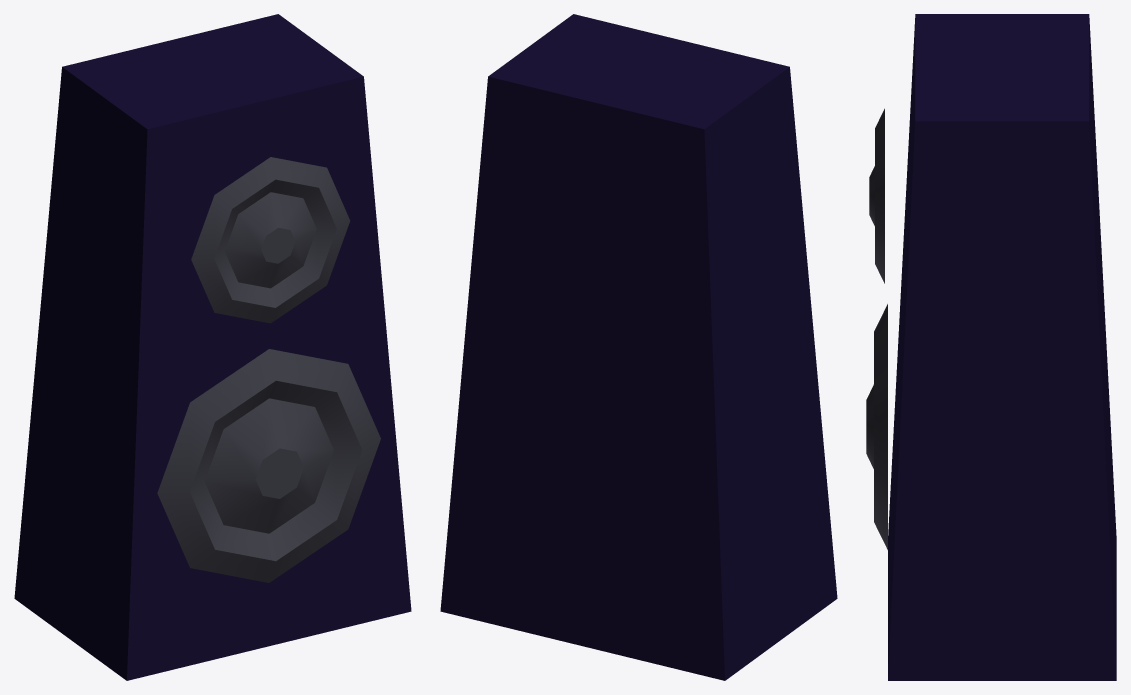
File: buffer_sm_mesh.fbx
The picture shows the model from 3 angles, left to right: view 1: azimuth 30°, elevation 25°; view 2: azimuth 150°, elevation 25°; view 3: azimuth 270°, elevation 25°; orthographic projection.
Visible parts, largest first — view 1: buffer_sm_mesh; view 2: buffer_sm_mesh; view 3: buffer_sm_mesh.
Part boxes in pixels (x1,y1,x2,y2): buffer_sm_mesh: [14, 14, 411, 680]; buffer_sm_mesh: [440, 14, 837, 680]; buffer_sm_mesh: [866, 14, 1116, 680].
Bounding box in the file's own units: 0.6123 × 1.1 × 0.4586.
